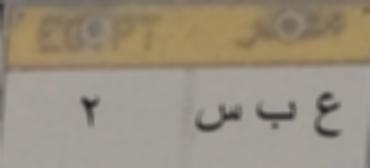2: (78, 84, 106, 136)
ain: (309, 86, 345, 148)
baa: (253, 96, 301, 140)
seen: (192, 96, 244, 142)
